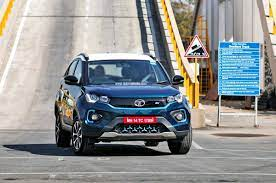Tata Nexon: (52, 50, 194, 157)
